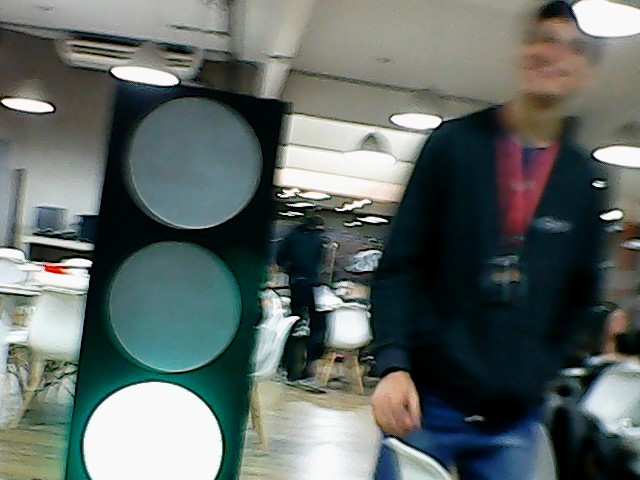verde: (59, 76, 304, 480)
